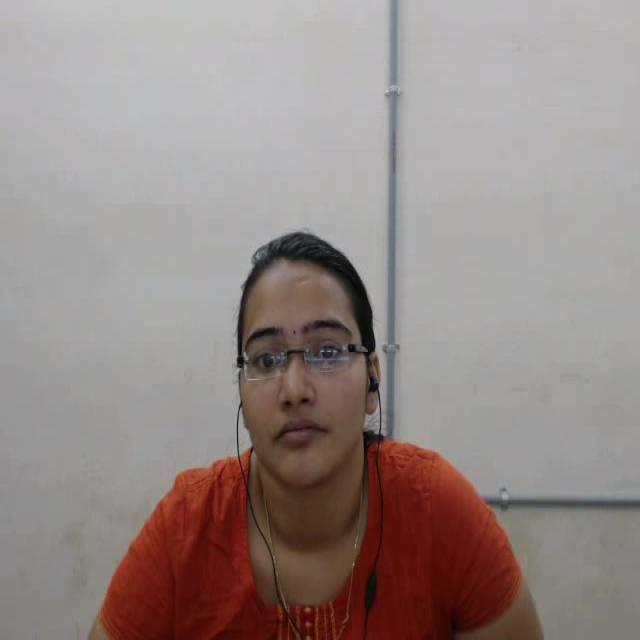Engaged: (201, 206, 393, 504)
